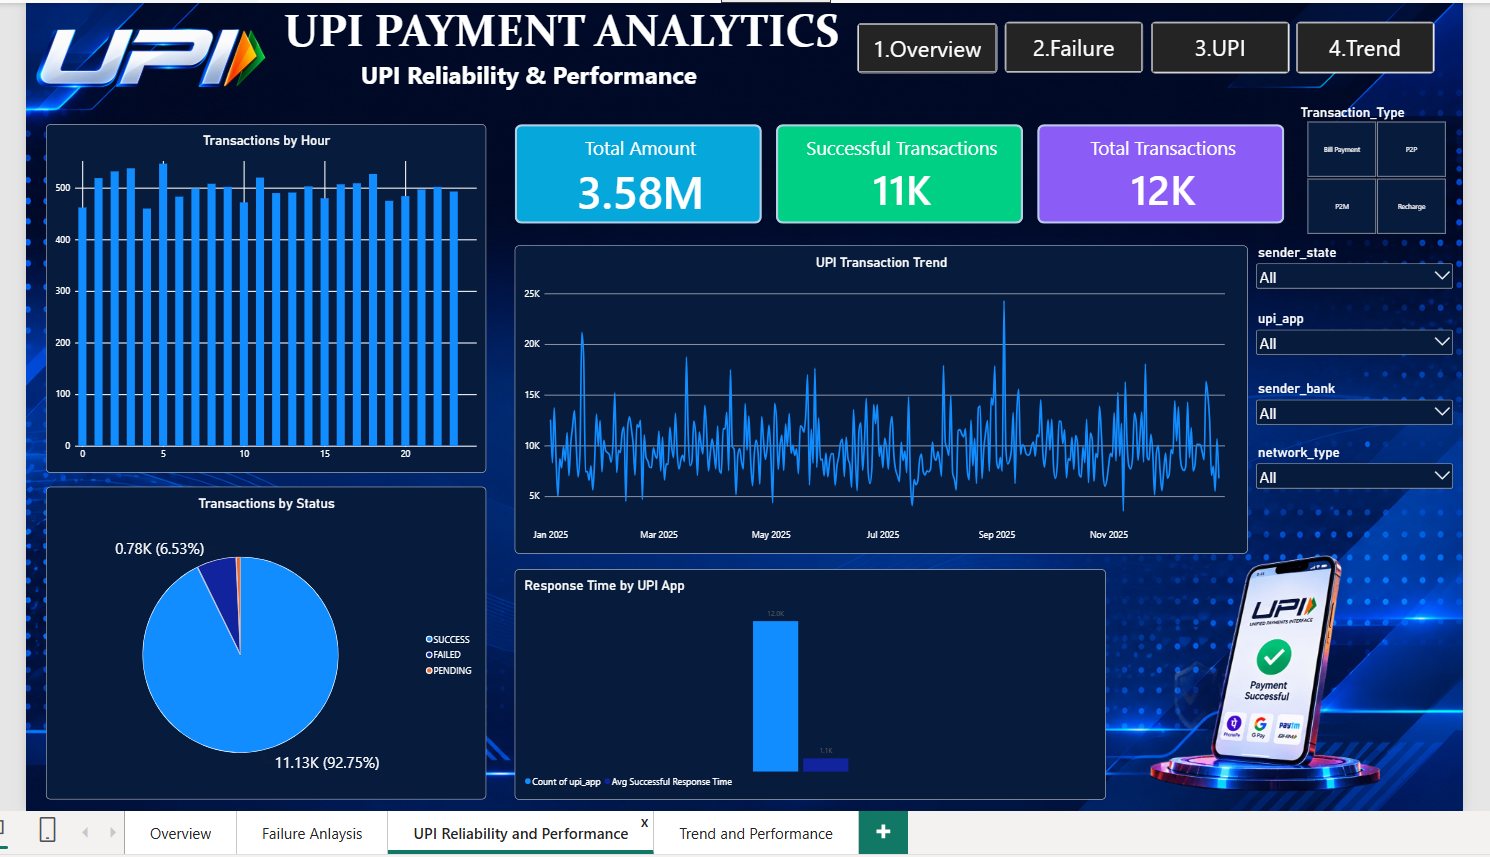

The page's visual inventory and layout, read from the dashboard file:
{"tool":"powerbi","page":{"name":"UPI Reliability and Performance","canvas":[2560,1440],"ordinal":2},"visuals":[{"type":"textbox","box":[0,0,2560.6,181.1],"z":0},{"type":"image","box":[1208.2,836.9,1352.3,604.1],"z":2000},{"type":"cardVisual","title":"To","fields":{"Data":["upi_transactions_cleaned.Total Transaction Amount"]},"box":[870.1,216.2,440.6,177.4],"z":3000},{"type":"cardVisual","title":"To","fields":{"Data":["upi_transactions_cleaned.Successful Transactions"]},"box":[1335.7,216.2,440.6,177.4],"z":4000},{"type":"cardVisual","title":"To","fields":{"Data":["upi_transactions_cleaned.Total Transactions"]},"box":[1801.3,216.2,440.6,177.4],"z":5000},{"type":"lineChart","title":"UPI Transaction Trend","fields":{"Category":["upi_transactions_cleaned.transaction_date"],"Y":["upi_transactions_cleaned.Total Transaction Amount"]},"box":[870.1,432.3,1305.2,548.7],"z":6000},{"type":"pieChart","title":"Transactions by Status","fields":{"Category":["upi_transactions_cleaned.transaction_status"],"Y":["CountNonNull(upi_transactions_cleaned.transaction_id)"]},"box":[36,861.8,784.2,557],"z":7000},{"type":"clusteredColumnChart","title":"Response Time by UPI App","fields":{"Y":["CountNonNull(upi_transactions_cleaned.upi_app)","upi_transactions_cleaned.Avg Successful Response Time"]},"box":[870.1,1008.7,1053,410.1],"z":8000},{"type":"clusteredColumnChart","title":"Transactions by Hour","fields":{"Category":["upi_transactions_cleaned.transaction_hour"],"Y":["upi_transactions_cleaned.Total Transactions"]},"box":[36,216.2,784.2,620.7],"z":9000},{"type":"slicer","fields":{"Values":["upi_transactions_cleaned.sender_state"]},"box":[2186.5,429.5,360.3,97],"z":10000},{"type":"slicer","fields":{"Values":["upi_transactions_cleaned.upi_app"]},"box":[2186.5,548.7,360.3,97],"z":11000},{"type":"slicer","fields":{"Values":["upi_transactions_cleaned.sender_bank"]},"box":[2186.5,673.4,360.3,97],"z":12000},{"type":"slicer","fields":{"Values":["upi_transactions_cleaned.network_type"]},"box":[2186.5,787,360.3,97],"z":13000},{"type":"slicer","fields":{"Values":["upi_transactions_cleaned.transaction_type"]},"box":[2261.3,180.1,285.4,232.8],"z":14000},{"type":"actionButton","title":"1.Overview","box":[1481,35.3,249.5,89.5],"z":15000},{"type":"actionButton","title":"1.Overview","box":[1744.1,32.5,246.6,91.4],"z":16000},{"type":"actionButton","title":"1.Overview","box":[2004.5,32.5,246.8,92.2],"z":17000},{"type":"actionButton","title":"1.Overview","box":[2262.2,32.5,246.8,92.2],"z":17001},{"type":"image","box":[10,10,426.8,180.1],"z":17002}]}

Visuals, with their boxes on the page's 2560x1440 design canvas (x1, y1, x2, y2). These are canvas units, not pixel positions in the 1490x857 screenshot, which may show the page scaled, cropped or inside an application window:
textbox: (x1=0, y1=0, x2=2561, y2=181)
image: (x1=1208, y1=837, x2=2560, y2=1441)
"To" cardVisual: (x1=870, y1=216, x2=1311, y2=394)
"To" cardVisual: (x1=1336, y1=216, x2=1776, y2=394)
"To" cardVisual: (x1=1801, y1=216, x2=2242, y2=394)
"UPI Transaction Trend" lineChart: (x1=870, y1=432, x2=2175, y2=981)
"Transactions by Status" pieChart: (x1=36, y1=862, x2=820, y2=1419)
"Response Time by UPI App" clusteredColumnChart: (x1=870, y1=1009, x2=1923, y2=1419)
"Transactions by Hour" clusteredColumnChart: (x1=36, y1=216, x2=820, y2=837)
slicer - upi_transactions_cleaned.sender_state: (x1=2186, y1=430, x2=2547, y2=526)
slicer - upi_transactions_cleaned.upi_app: (x1=2186, y1=549, x2=2547, y2=646)
slicer - upi_transactions_cleaned.sender_bank: (x1=2186, y1=673, x2=2547, y2=770)
slicer - upi_transactions_cleaned.network_type: (x1=2186, y1=787, x2=2547, y2=884)
slicer - upi_transactions_cleaned.transaction_type: (x1=2261, y1=180, x2=2547, y2=413)
"1.Overview" actionButton: (x1=1481, y1=35, x2=1730, y2=125)
"1.Overview" actionButton: (x1=1744, y1=32, x2=1991, y2=124)
"1.Overview" actionButton: (x1=2004, y1=32, x2=2251, y2=125)
"1.Overview" actionButton: (x1=2262, y1=32, x2=2509, y2=125)
image: (x1=10, y1=10, x2=437, y2=190)
